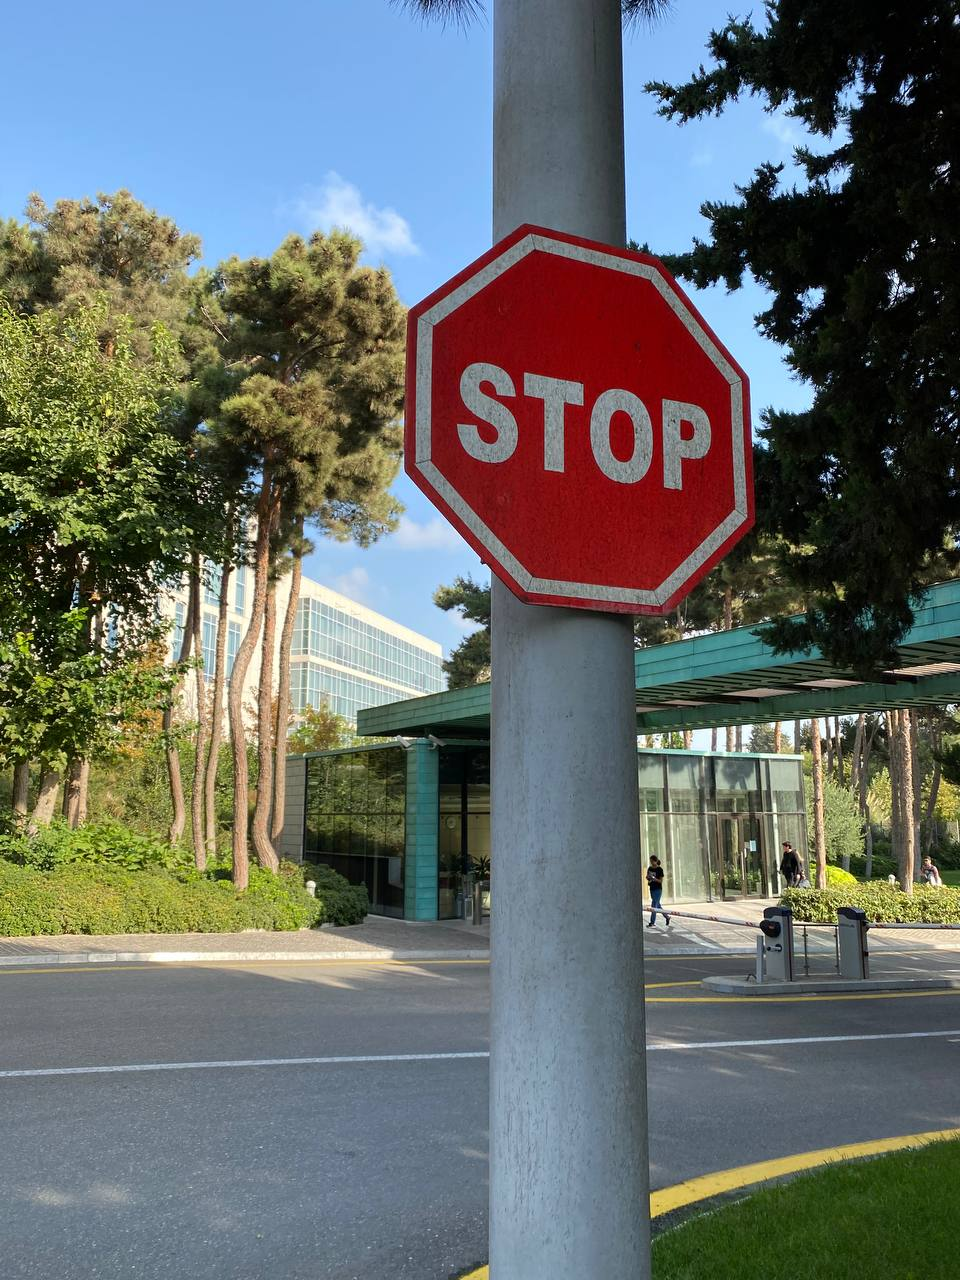STOP: (407, 222, 755, 618)
